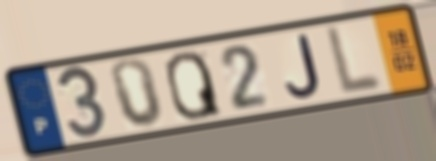0: (109, 57, 166, 132)
2: (220, 42, 273, 114)
3: (55, 62, 111, 144)
J: (283, 31, 324, 101)
L: (324, 22, 386, 99)
Q: (163, 49, 225, 122)
